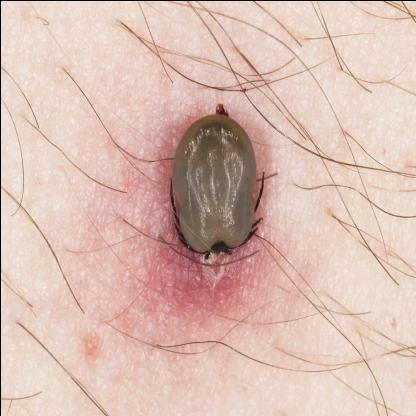Tick: (137, 91, 281, 332)
